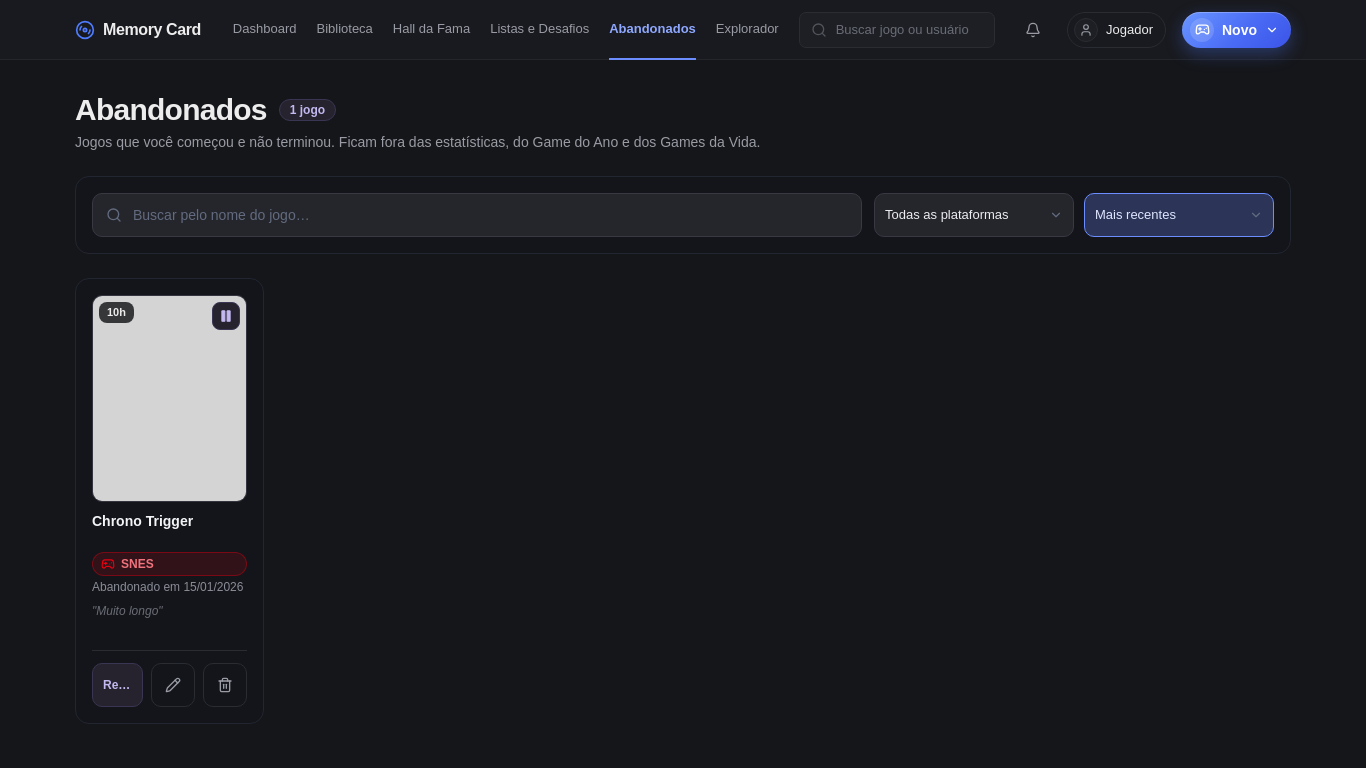
Scenario: AbandonadosPage › abre o modal de edição ao clicar no botão de editar
The width and height of the screenshot is (1366, 768).
Expected: the heading "Chrono Trigger" is shown, [92,513,193,529]
Click the button named "Editar Chrono Trigger": coordinates (173, 685) [151,663,195,707]
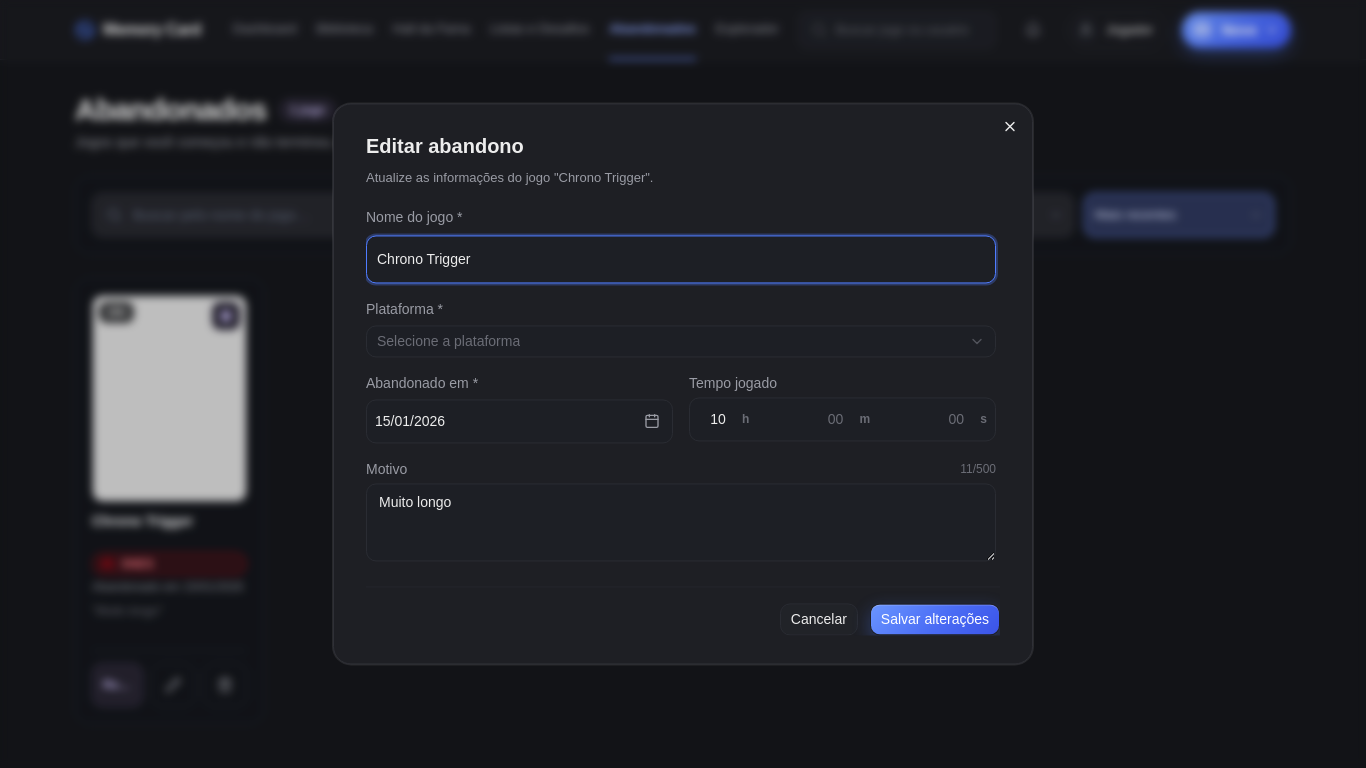
Expected: the heading "Editar abandono" is shown, [366,135,524,157]
Expected: the field showing "Chrono Trigger" is shown, [366,236,996,284]
